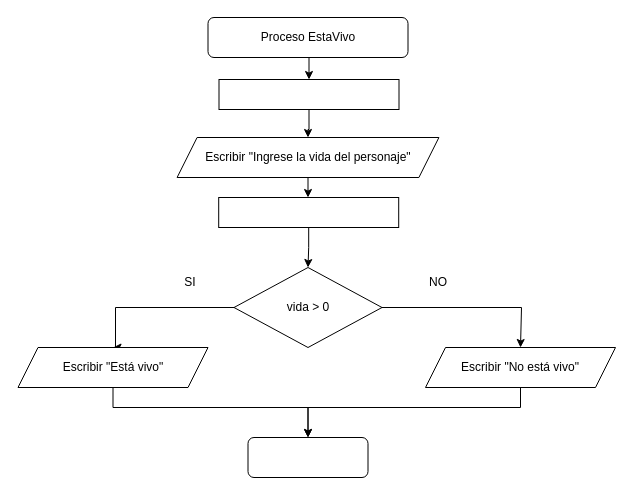
Some shapes in this 633 by 495 pixel diagram are drawn without their labels. The shapes that lost their labels are listed below. From the top down, each one's centre as x and y in pixels, then its label:
At (308,94): "Defino vida como Entero".
At (308,212): "Leer vida".
At (307,457): "Fin Proceso".
